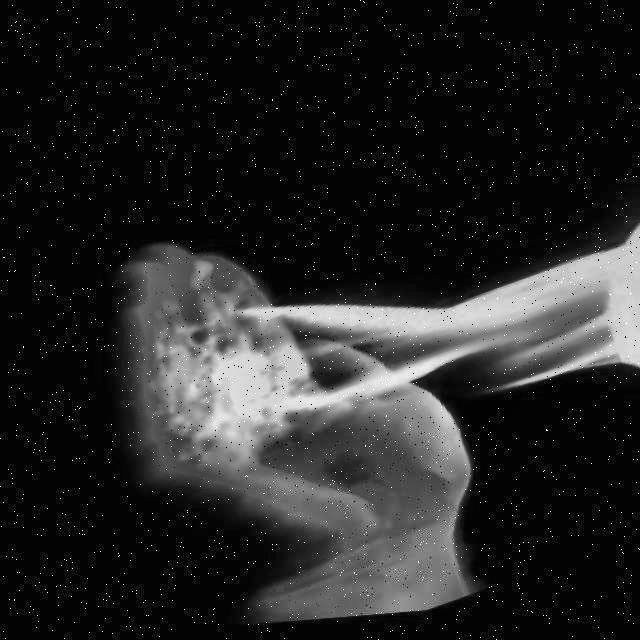Fire: (180, 168, 640, 520)
